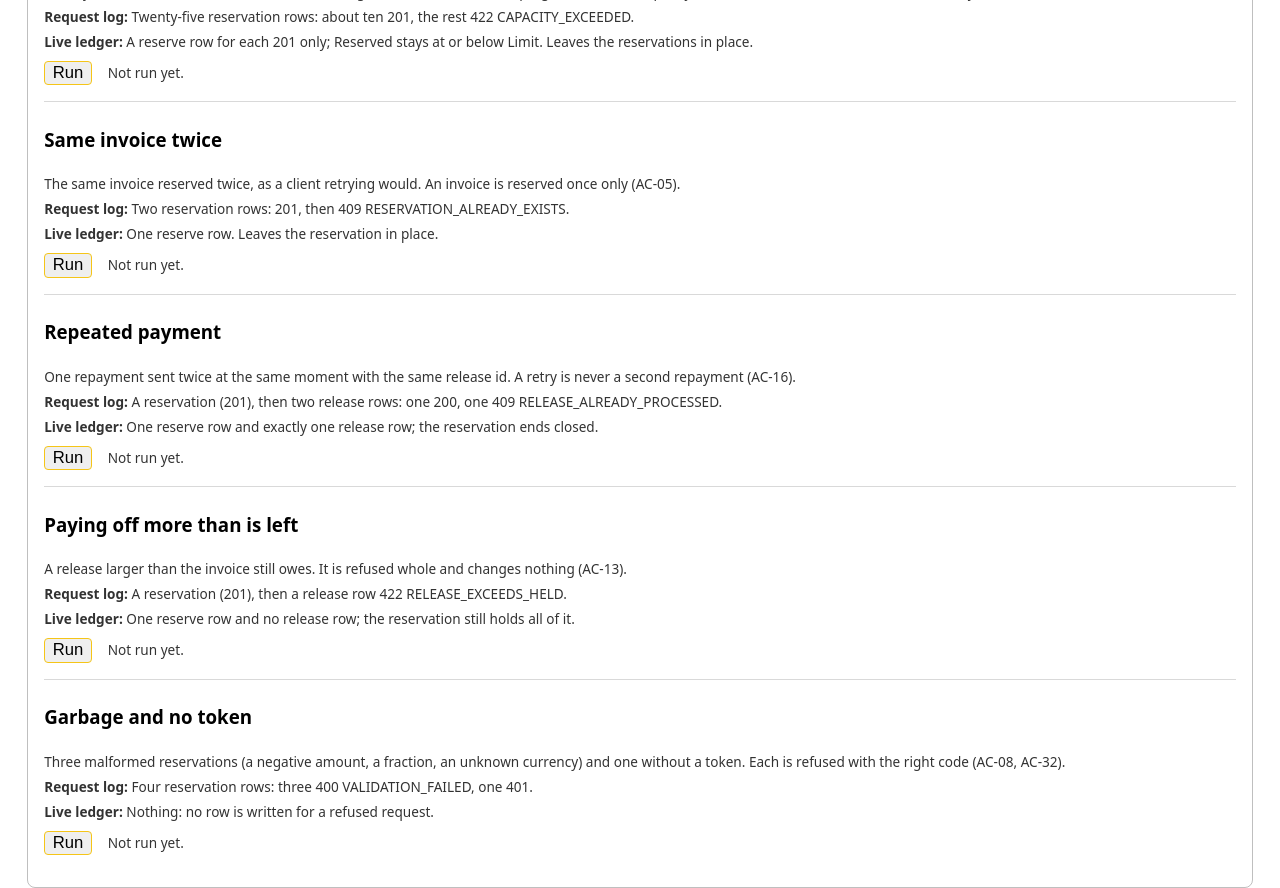
ResilienceScenarios › should send the garbage requests, one without a token, and pass when each is refused
(page scrolled)
Step 1. Click the button "Run" below "Garbage and no token" → (68, 843), box x1=44 y1=830 x2=92 y2=855
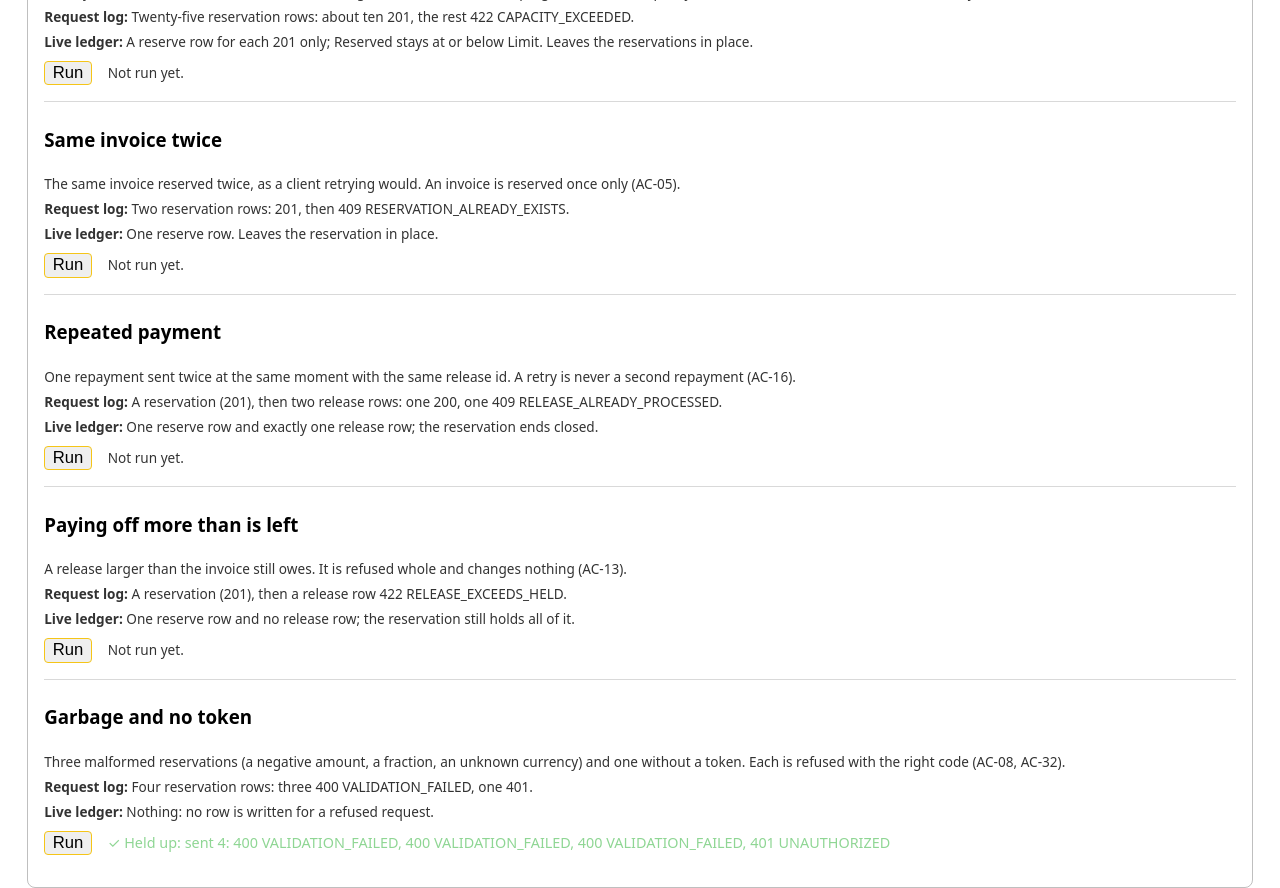
Result: the text with test id "outcome" shows "✓" at x1=108 y1=833 x2=890 y2=852
